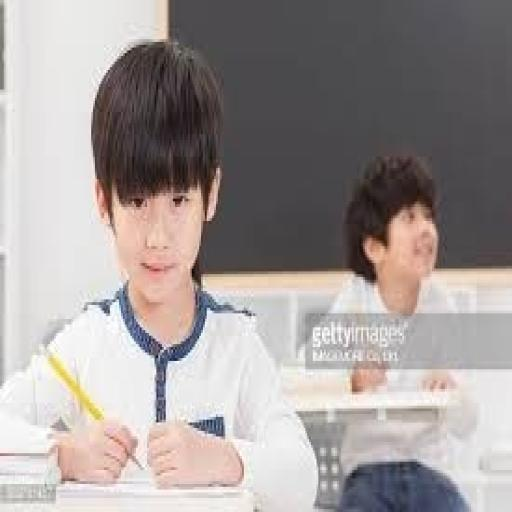sitting: (2, 36, 320, 506), (318, 148, 477, 509)
